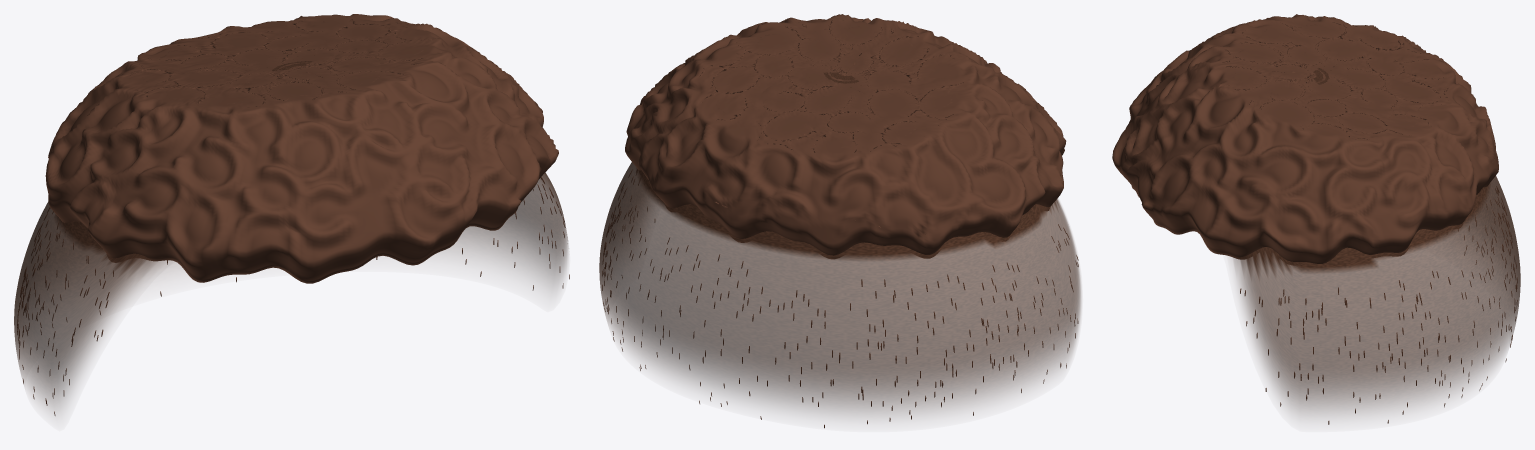
Rendered from Masculine-curly-top-bucket251-hair.glb.
3 renders of one model, left to right at view 1: azimuth 30°, elevation 25°; view 2: azimuth 150°, elevation 25°; view 3: azimuth 270°, elevation 25°, orthographic. The views are drawn at different scales.
Visible parts, largest first — view 1: 226 hair / Hair / sculpted curly crown251.001, 226 hair / Hair / clipped grain251.001, 226 hair / Hair / close cut strokes251.001; view 2: 226 hair / Hair / clipped grain251.001, 226 hair / Hair / sculpted curly crown251.001, 226 hair / Hair / close cut strokes251.001; view 3: 226 hair / Hair / sculpted curly crown251.001, 226 hair / Hair / clipped grain251.001, 226 hair / Hair / close cut strokes251.001.
Boxes of the visible parts, bbox=[...] form: 226 hair / Hair / sculpted curly crown251.001: bbox=[45, 14, 558, 283]; 226 hair / Hair / clipped grain251.001: bbox=[14, 55, 568, 411]; 226 hair / Hair / close cut strokes251.001: bbox=[17, 177, 569, 415]; 226 hair / Hair / clipped grain251.001: bbox=[599, 72, 1081, 416]; 226 hair / Hair / sculpted curly crown251.001: bbox=[625, 14, 1066, 258]; 226 hair / Hair / close cut strokes251.001: bbox=[602, 170, 1078, 428]; 226 hair / Hair / sculpted curly crown251.001: bbox=[1112, 14, 1498, 264]; 226 hair / Hair / clipped grain251.001: bbox=[1231, 66, 1520, 416]; 226 hair / Hair / close cut strokes251.001: bbox=[1240, 186, 1517, 424].
Size of the model in its own units: 0.9812 by 0.6113 by 0.8042.
Materials: 3 (1 with a texture image).
